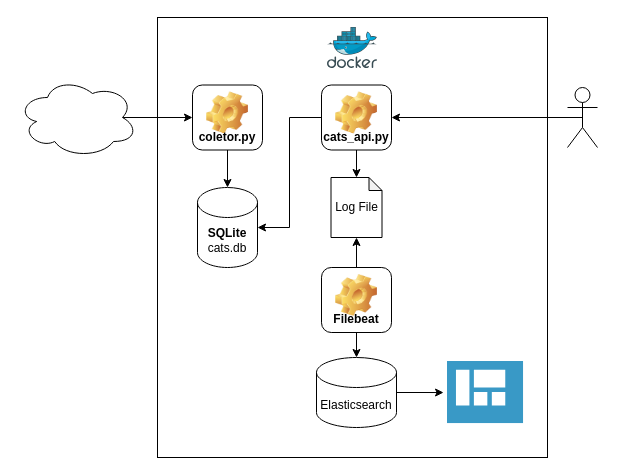
Some shapes in this 631 by 475 pixel diagram are drawn without their labels. Each missing label, with the centre of its shape:
"Kibana" belongs at (x=485, y=392).
"Usuário API" belongs at (x=582, y=117).
"Web API" belongs at (x=77, y=117).
